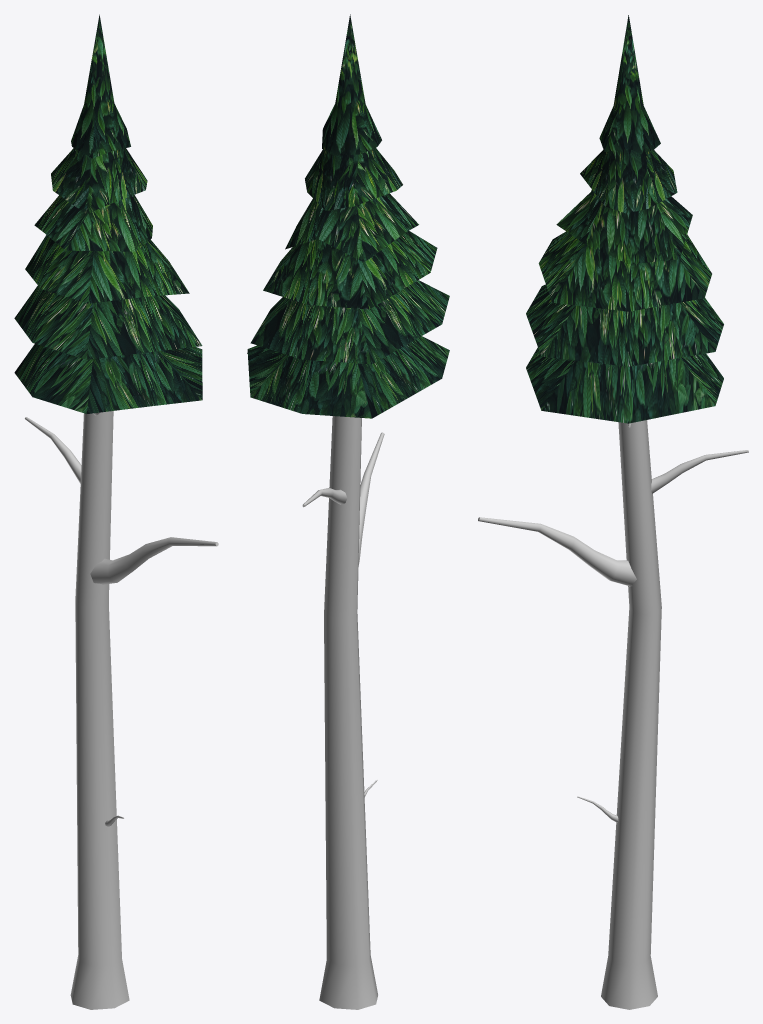
Rendered from ArbolUno.fbx.
3 renders of one model, left to right at view 1: azimuth 30°, elevation 25°; view 2: azimuth 150°, elevation 25°; view 3: azimuth 270°, elevation 25°, orthographic.
Visible parts, largest first — view 1: Object065; view 2: Object065; view 3: Object065.
Boxes of the visible parts, bbox=[...] form: Object065: bbox=[14, 14, 218, 1009]; Object065: bbox=[247, 14, 449, 1009]; Object065: bbox=[478, 15, 748, 1009].
Size of the model in its own units: 0.4137 by 2.13 by 0.5336.
